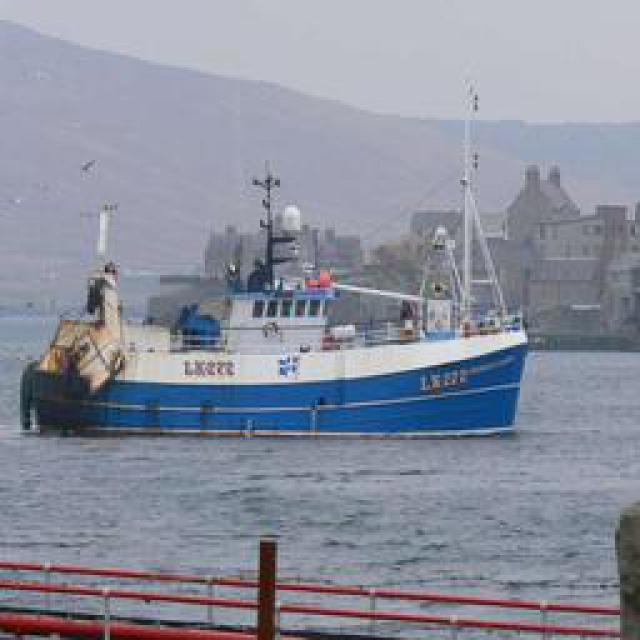Ship: (28, 160, 536, 445)
